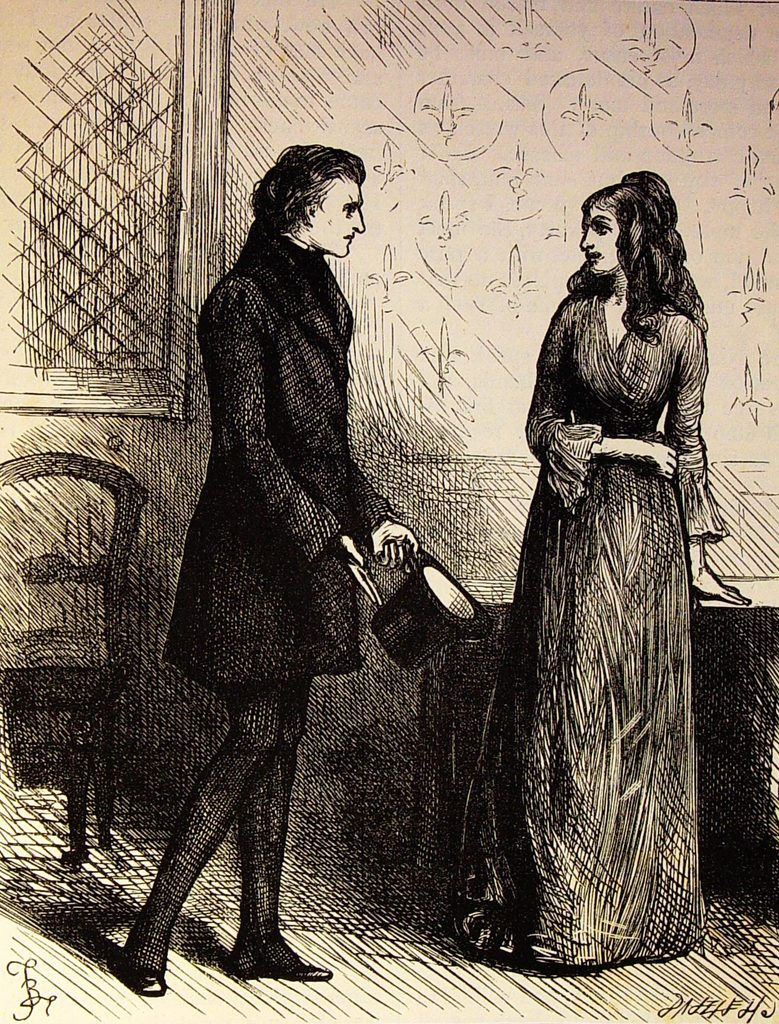Footwear: (232, 959, 335, 982), (127, 973, 173, 996)
